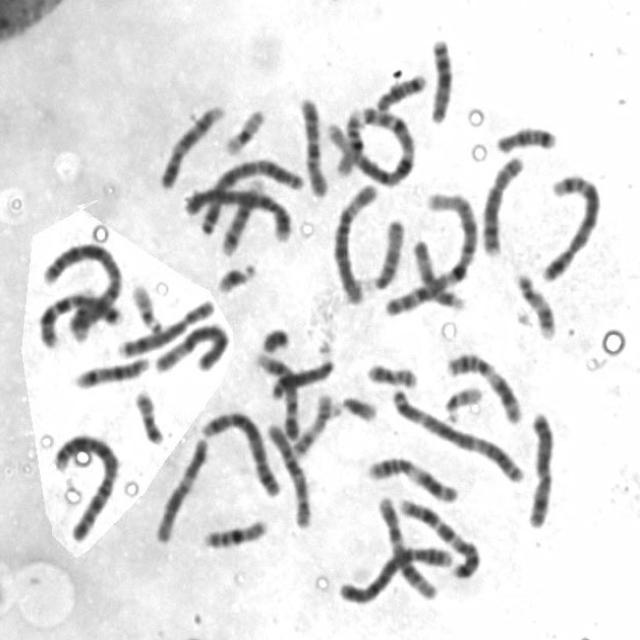A1: (378, 184, 482, 318), (325, 100, 418, 188)
A2: (39, 238, 124, 338), (49, 429, 122, 543)
A3: (388, 384, 528, 484), (195, 152, 306, 237)
B4: (335, 539, 454, 605), (181, 181, 296, 243)
B5: (196, 404, 284, 499), (538, 166, 604, 284)
C10: (262, 416, 316, 530), (294, 91, 330, 198)
C11: (442, 346, 526, 426), (362, 450, 462, 504)
C12: (374, 489, 442, 602), (150, 432, 210, 544)
C6: (328, 178, 382, 305), (151, 317, 233, 376)
C7: (394, 491, 483, 582), (34, 283, 124, 350)
C8: (113, 294, 218, 358), (476, 148, 528, 258)
C9: (156, 98, 227, 190), (250, 348, 302, 442)
D13: (266, 343, 336, 402), (425, 32, 456, 124)
D14: (216, 172, 264, 258), (69, 350, 153, 390)
D15: (407, 233, 466, 311), (360, 214, 407, 292)
E16: (198, 513, 270, 551), (332, 102, 366, 178)
E17: (510, 266, 558, 341), (287, 388, 336, 459)
E18: (372, 68, 429, 112), (492, 119, 558, 155)
F19: (220, 102, 268, 158), (66, 292, 100, 346)
F20: (130, 384, 167, 446), (362, 358, 420, 389)
G21: (212, 258, 258, 296), (334, 389, 380, 424)
G22: (127, 277, 166, 334), (440, 379, 484, 423)
X: (523, 405, 558, 530)
Y: (257, 322, 292, 354)
